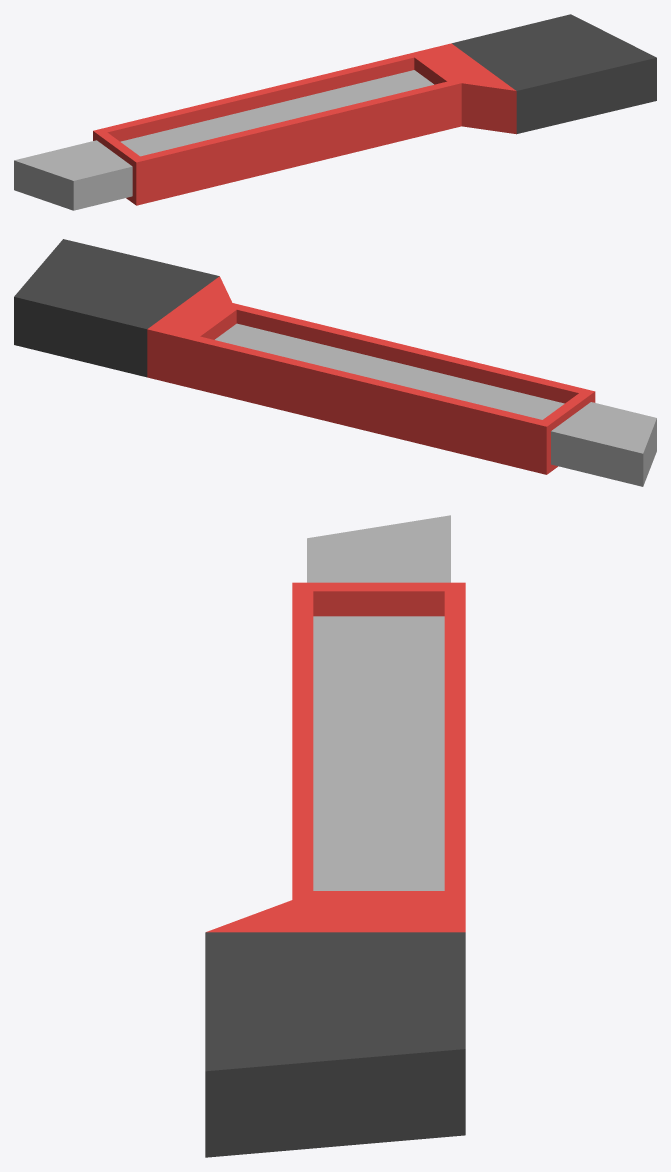
File: Props_Cutter.fbx
3 renders of one model, top to bottom at view 1: azimuth 30°, elevation 25°; view 2: azimuth 150°, elevation 25°; view 3: azimuth 270°, elevation 25°, orthographic. The views are drawn at different scales.
Parts seen in each view (by area): view 1: Props_Cutter; view 2: Props_Cutter; view 3: Props_Cutter.
Part boxes in pixels (x1,y1,x2,y2): Props_Cutter: [14, 14, 656, 210]; Props_Cutter: [14, 239, 656, 486]; Props_Cutter: [205, 515, 465, 1157].
Size of the model in its own units: 38.23 by 2.77 by 7.42.
